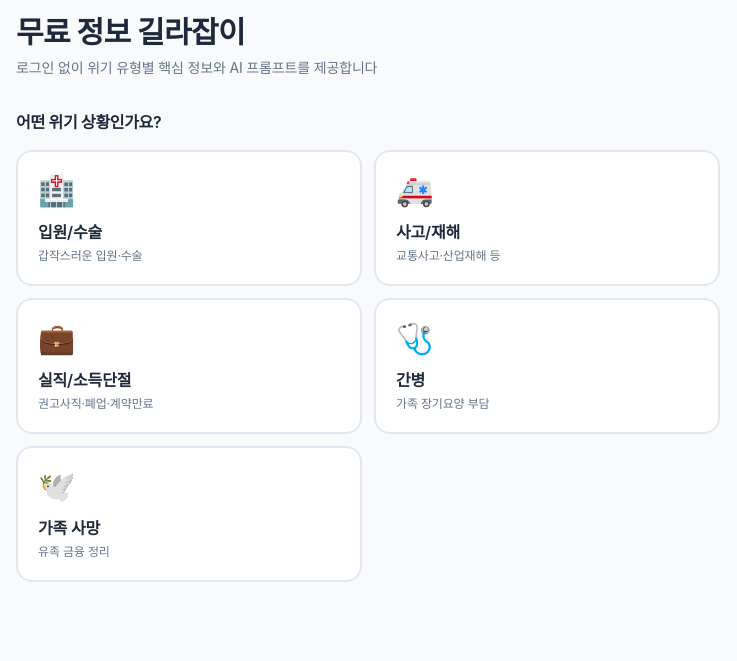
GuidePage › API 실패 시 에러 메시지를 표시한다
The image size is (737, 661).
Click the text "실직/소득단절" at (85, 380), box [38,370,131,390]
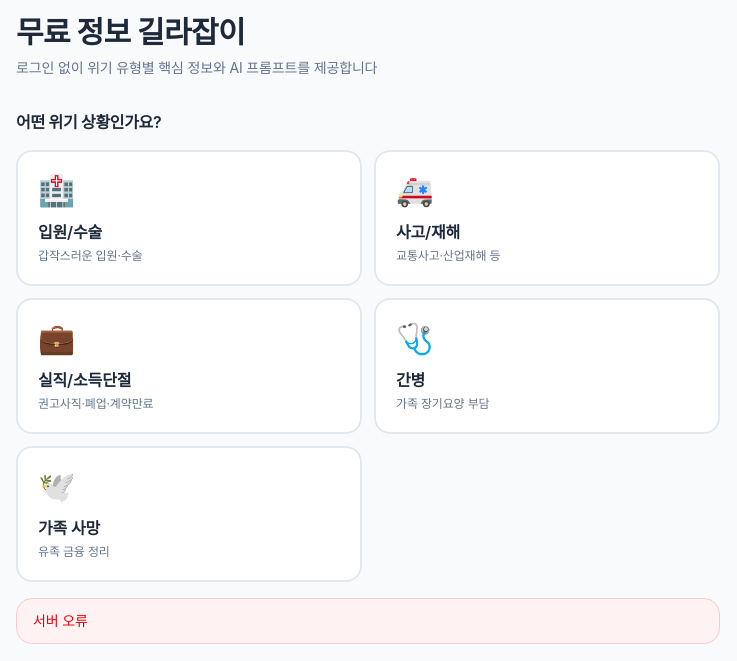
Check: the text "서버 오류" is shown, box [16,598,720,644]
